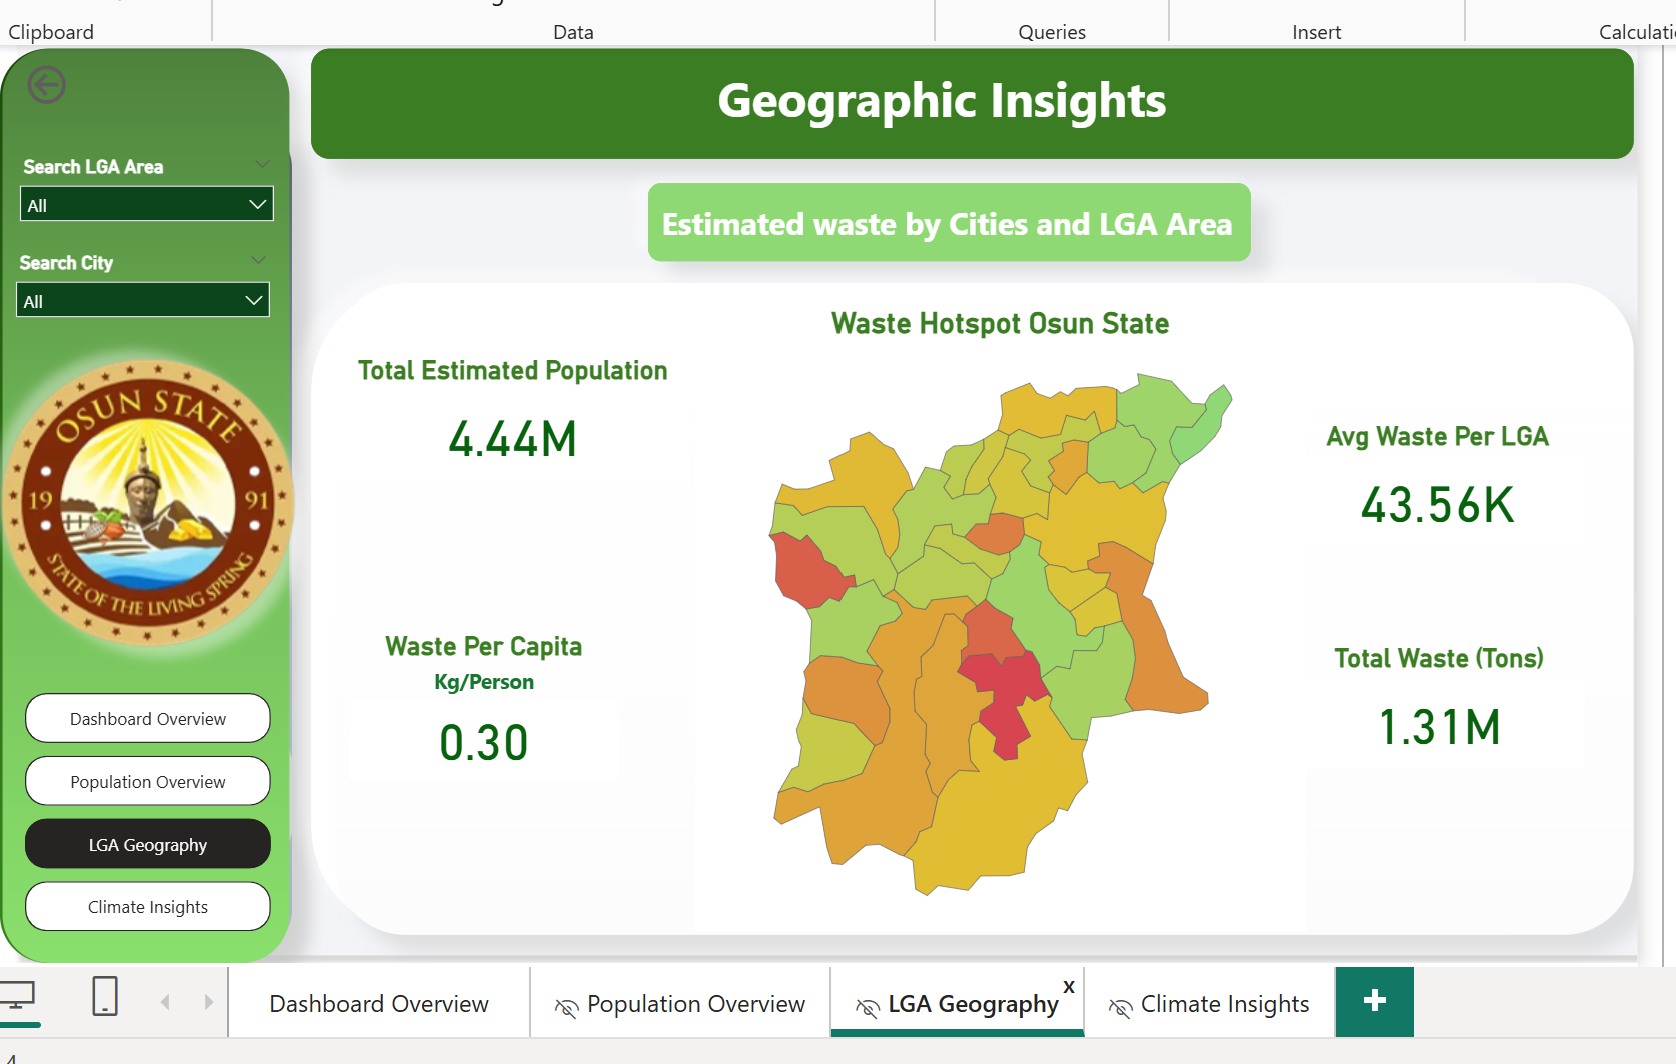

This screenshot's page, from the dashboard's own definition file:
{"tool":"powerbi","page":{"name":"LGA Geography","canvas":[1280,720],"ordinal":3},"visuals":[{"type":"textbox","box":[513.8,117.1,457.6,45.3],"z":0},{"type":"textbox","box":[557.6,10.9,517,64],"z":1000},{"type":"slicer","fields":{"Values":["LGA Population.Local Goverment Area"]},"box":[8.6,81.4,218.6,60],"z":2000},{"type":"actionButton","box":[18.3,11.7,100,40],"z":3000},{"type":"pageNavigator","box":[22,506,192,186],"z":4000},{"type":"image","box":[0,242.9,235.7,232.9],"z":5000},{"type":"shapeMap","title":"Waste Hotspot Osun State","fields":{"Value":["Sum(LGA Population.Adjusted Waste (Tons))"],"Category":["LGA Population.LGA_Map"]},"box":[545.1,203,476.4,488.9],"z":6000},{"type":"cardVisual","title":"Avg Waste Per LGA","fields":{"Data":["Climate_Data.Avg Per LGA"]},"box":[1005.8,293.6,237.4,103.1],"z":7000},{"type":"cardVisual","title":"Total Waste (Tons)","fields":{"Data":["Climate_Data.Total Waste"]},"box":[1005.8,467,239,103.1],"z":8000},{"type":"cardVisual","title":"Total Estimated Population","fields":{"Data":["LGA Population.Total Population"]},"box":[260.8,242.1,284.3,103.1],"z":9000},{"type":"cardVisual","title":"Waste Per Capita","fields":{"Data":["Climate_Data.Waste per Capita"]},"box":[270.2,457.6,220.2,121.8],"z":10000},{"type":"slicer","fields":{"Values":["Township.City"]},"box":[4.7,156.2,218.7,59.3],"z":11000}]}

Visuals, with their boxes on the page's 1280x720 design canvas (x1, y1, x2, y2). These are canvas units, not pixel positions in the 1676x1064 screenshot, which may show the page scaled, cropped or inside an application window:
textbox: 514/117/971/162
textbox: 558/11/1075/75
slicer - LGA Population.Local Goverment Area: 9/81/227/141
actionButton: 18/12/118/52
pageNavigator: 22/506/214/692
image: 0/243/236/476
"Waste Hotspot Osun State" shapeMap: 545/203/1022/692
"Avg Waste Per LGA" cardVisual: 1006/294/1243/397
"Total Waste (Tons)" cardVisual: 1006/467/1245/570
"Total Estimated Population" cardVisual: 261/242/545/345
"Waste Per Capita" cardVisual: 270/458/490/579
slicer - Township.City: 5/156/223/216
